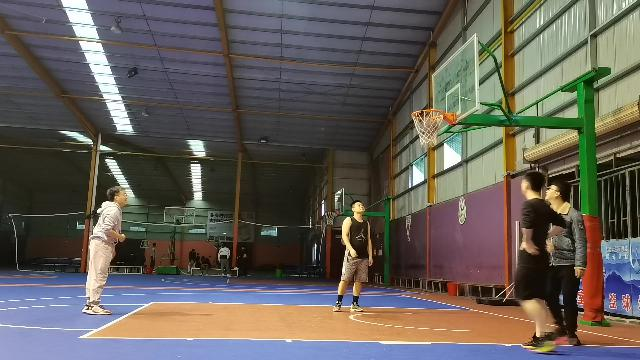basket: (410, 109, 444, 147)
goal: (420, 118, 438, 134)
